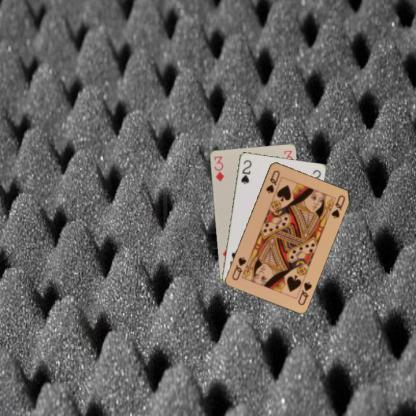2s: (238, 157, 253, 185)
3d: (211, 154, 226, 182)
Qs: (295, 279, 313, 306), (263, 168, 281, 194)
